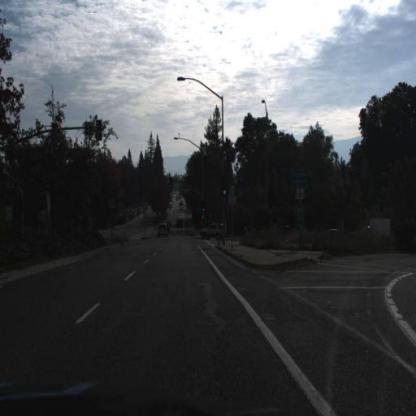car: (360, 215, 395, 240), (198, 222, 228, 241), (157, 223, 171, 241), (177, 218, 185, 232)
trafficLight-Green: (222, 177, 230, 197), (202, 199, 208, 215), (169, 178, 175, 192)
truck: (360, 215, 395, 240)
